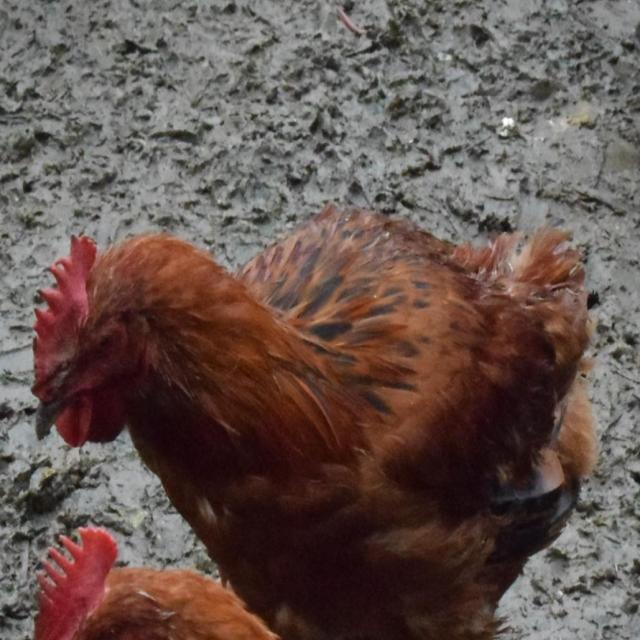cook: (31, 205, 596, 640)
